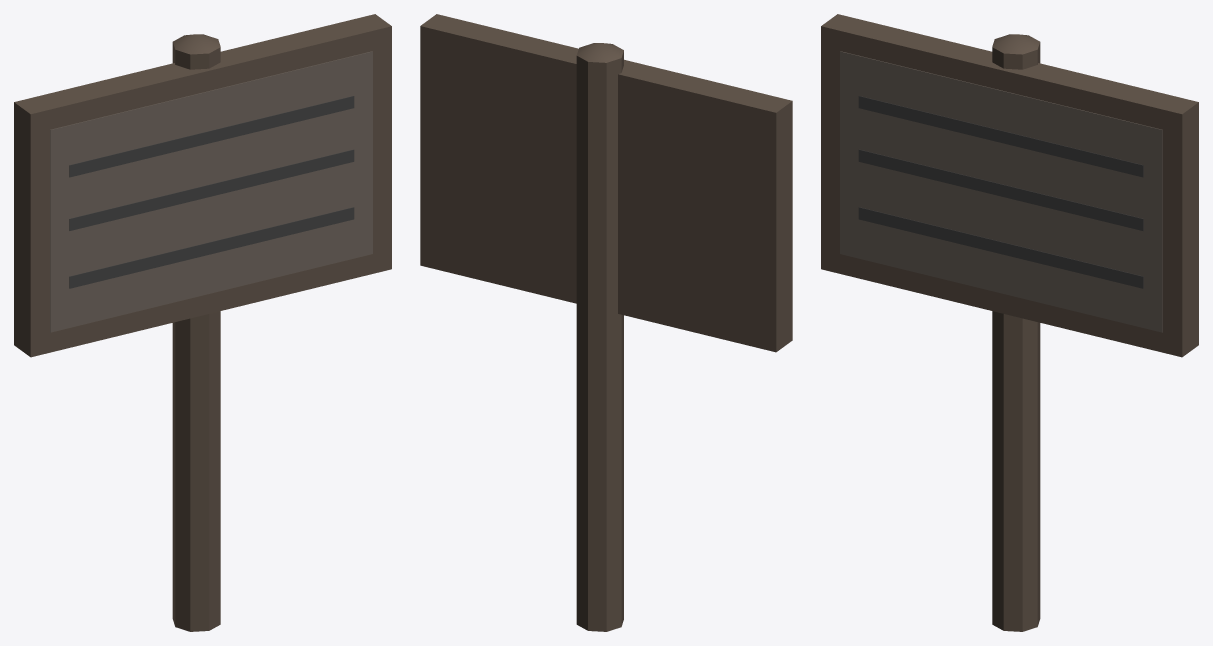
Rendered from Sign.fbx.
3 renders of one model, left to right at view 1: azimuth 30°, elevation 25°; view 2: azimuth 150°, elevation 25°; view 3: azimuth 330°, elevation 25°, orthographic.
Parts seen in each view (by area): view 1: pCylinder2; view 2: pCylinder2; view 3: pCylinder2.
Boxes of the visible parts, bbox=[...] form: pCylinder2: bbox=[14, 14, 391, 631]; pCylinder2: bbox=[420, 14, 792, 631]; pCylinder2: bbox=[821, 14, 1198, 631].
Size of the model in its own units: 16.79 by 26.11 by 2.22.
